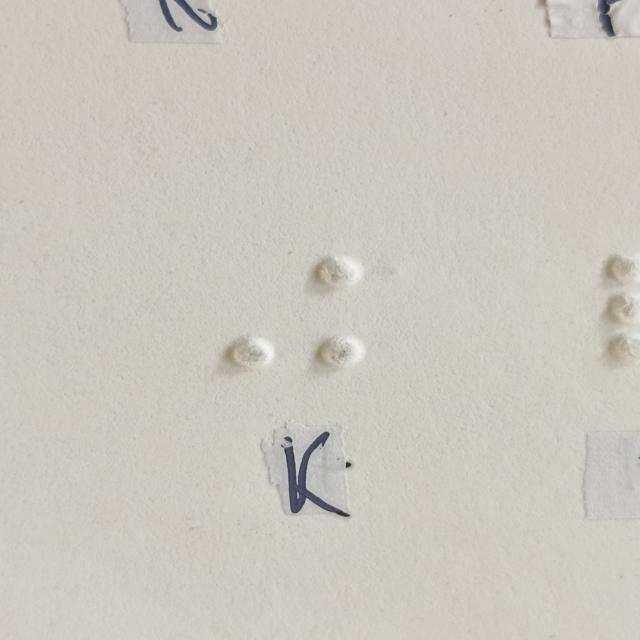capital_sign: (188, 256, 275, 369)
letter_K: (320, 255, 407, 367)
